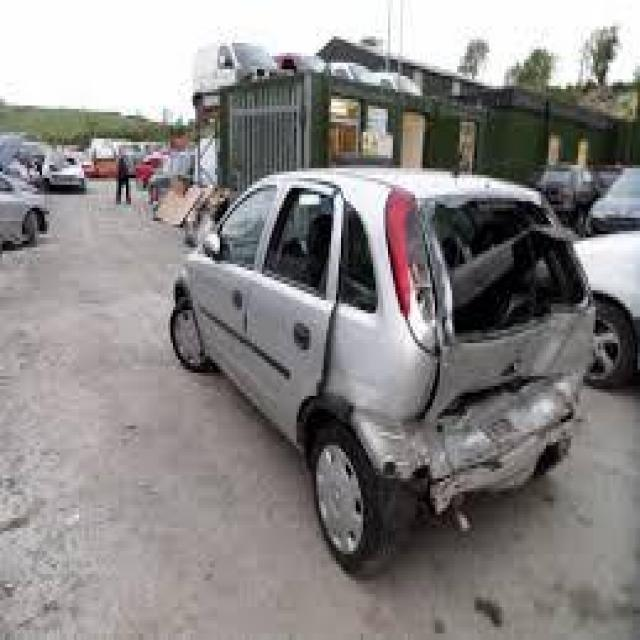damaged: (410, 191, 593, 498)
